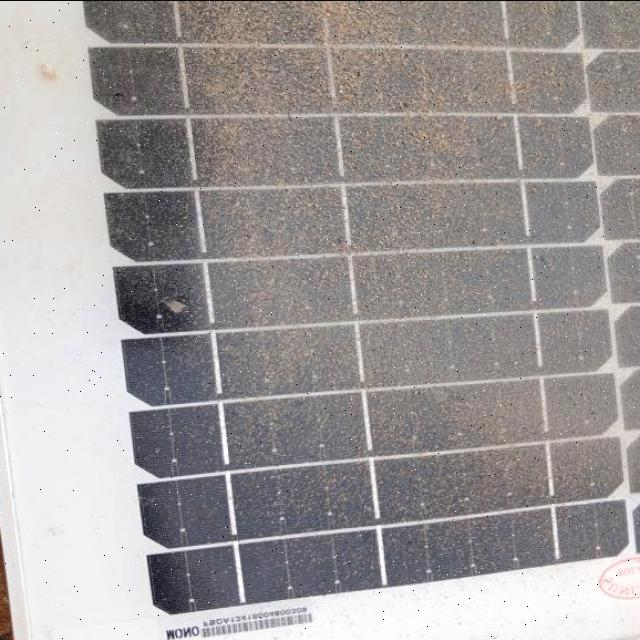Surface Contaminant: (96, 118, 640, 556)
